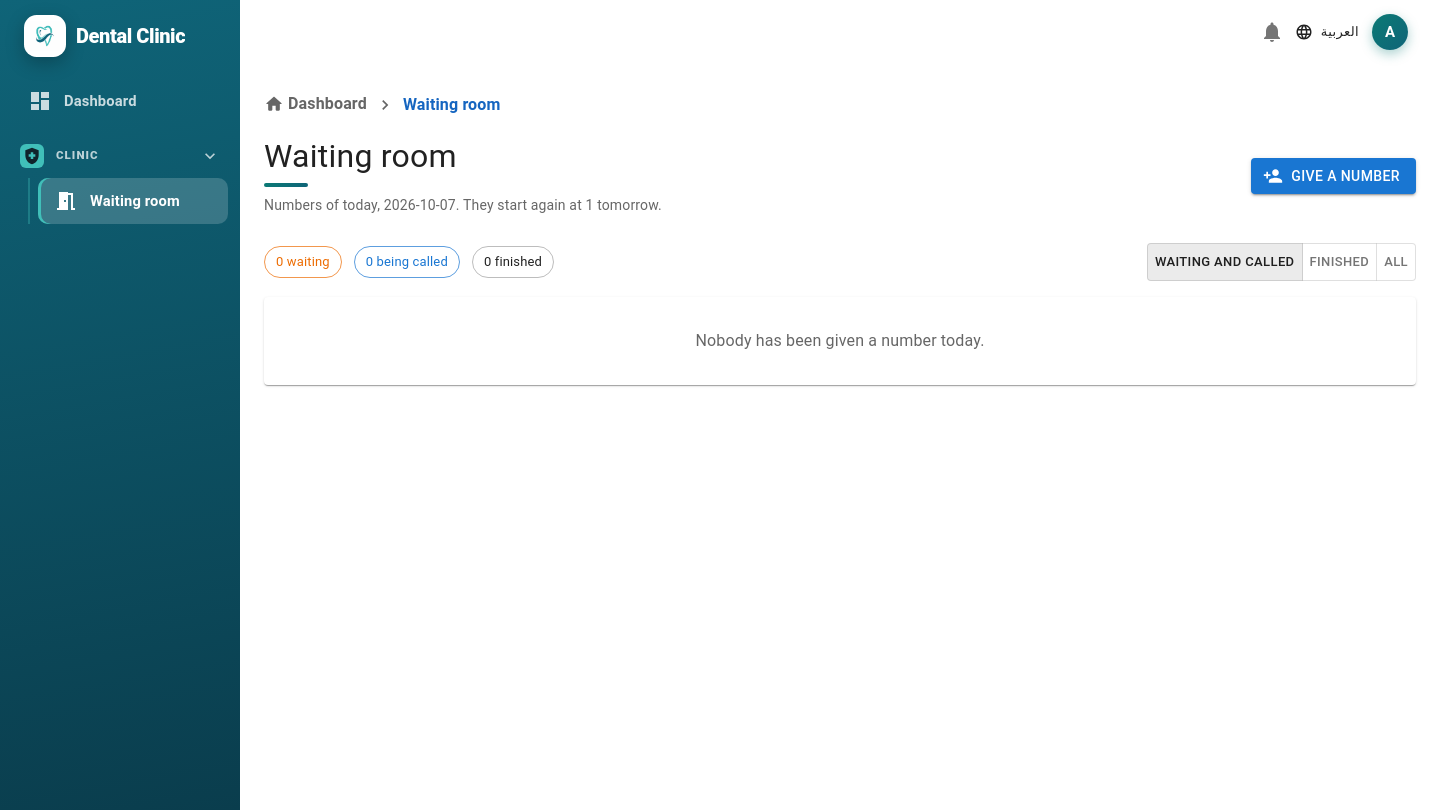
Test: giving a number › gives a number to someone expected today in one click, and shows it large
Expected: the heading "Waiting room" is shown, [264,137,457,175]
Click the button "Give a number": (1334, 176) [1251,158,1416,194]
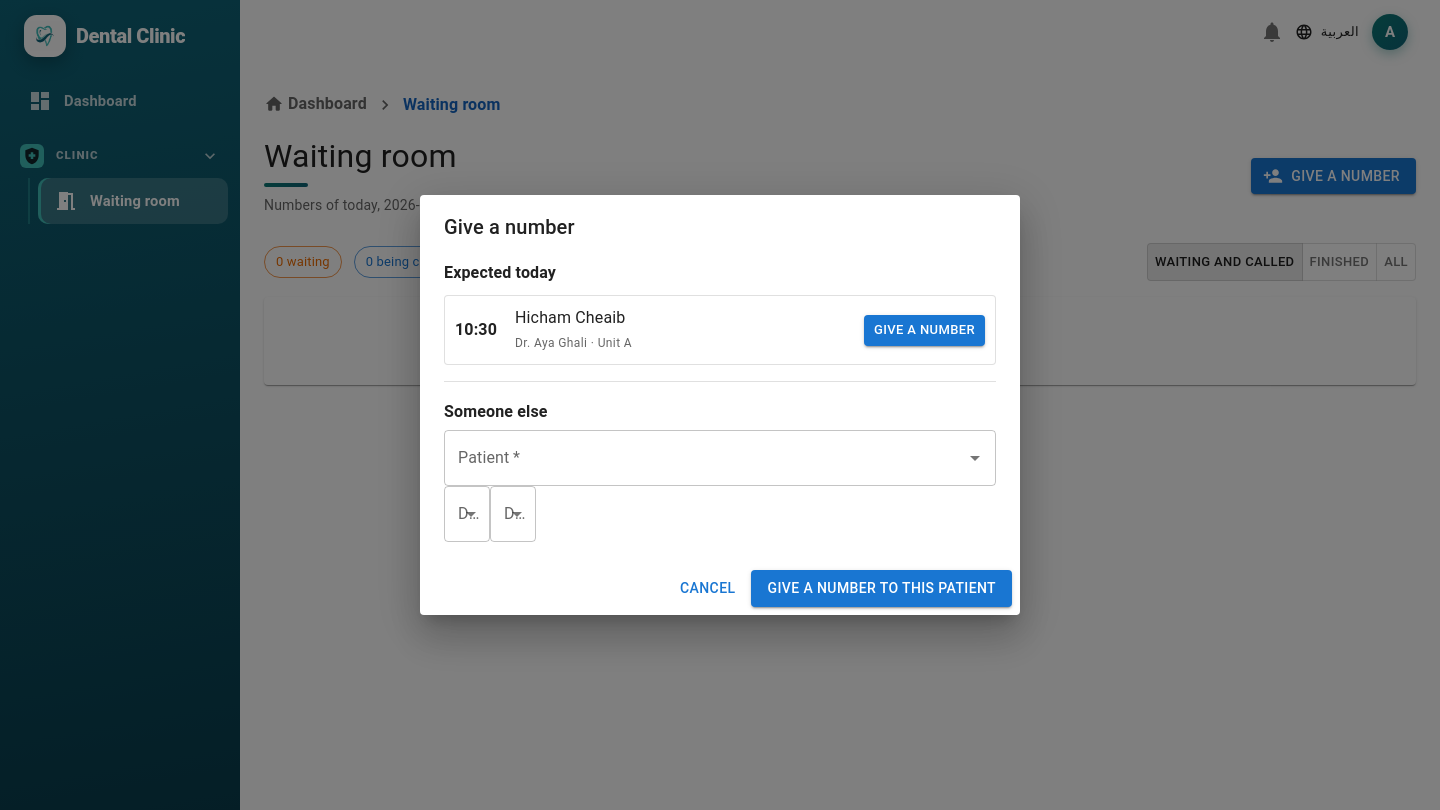
Expected: the text "Hicham Cheaib" is shown, [515,308,625,327]
Expected: the text "10:30" is shown, [455,320,497,339]
Click the button with aria-label "Give a number to Hicham Cheaib": (924, 330) [864,315,985,346]
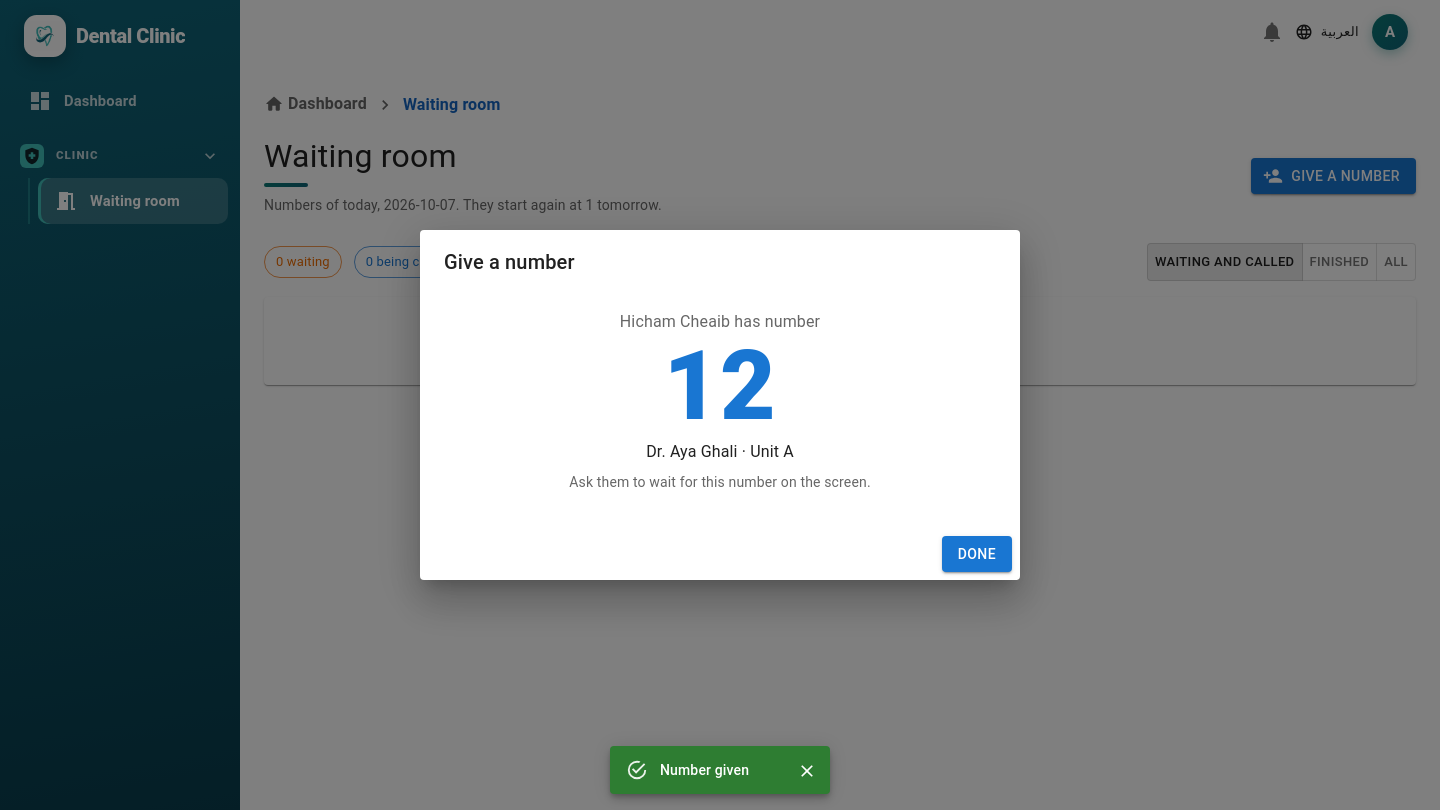
Expected: the text "Dr. Aya Ghali · Unit A" is shown, [646,442,794,460]
Expected: the text named "Number 12" reads "12", [664,330,777,442]
Expected: the text "Number given" is shown, [660,762,749,778]
Click the button "Done": (977, 554) [942,536,1012,572]
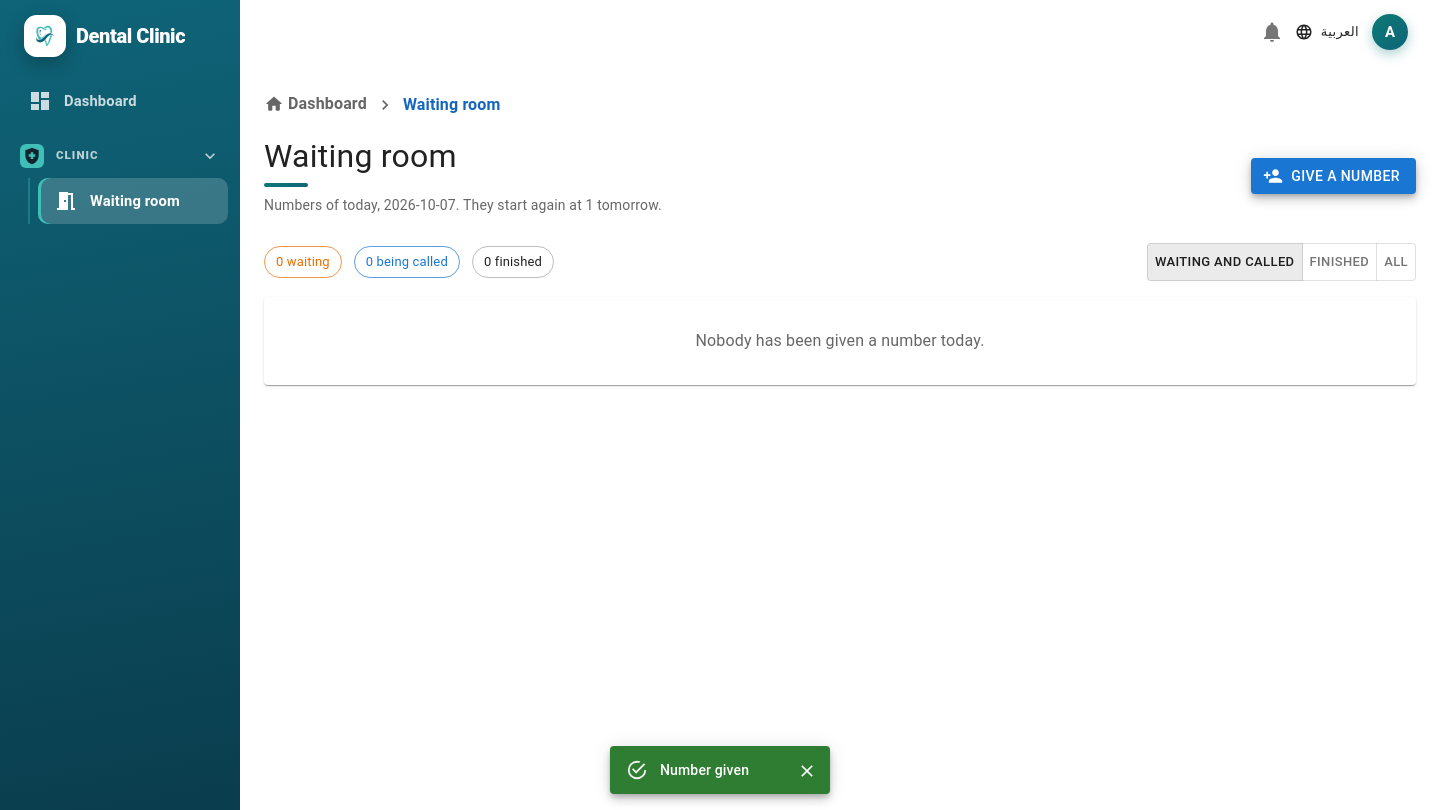
Expected: the dialog is gone
